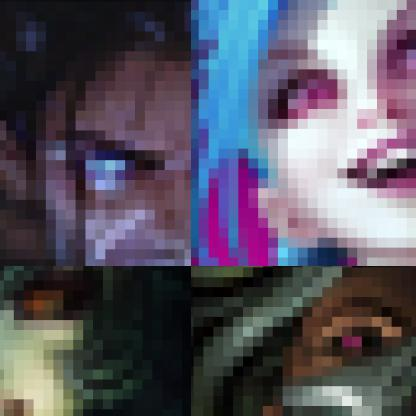Jinx: (191, 0, 415, 265)
Nami: (0, 266, 190, 415)
Renata Glasc: (191, 266, 415, 415)
Sylas: (0, 0, 190, 265)
